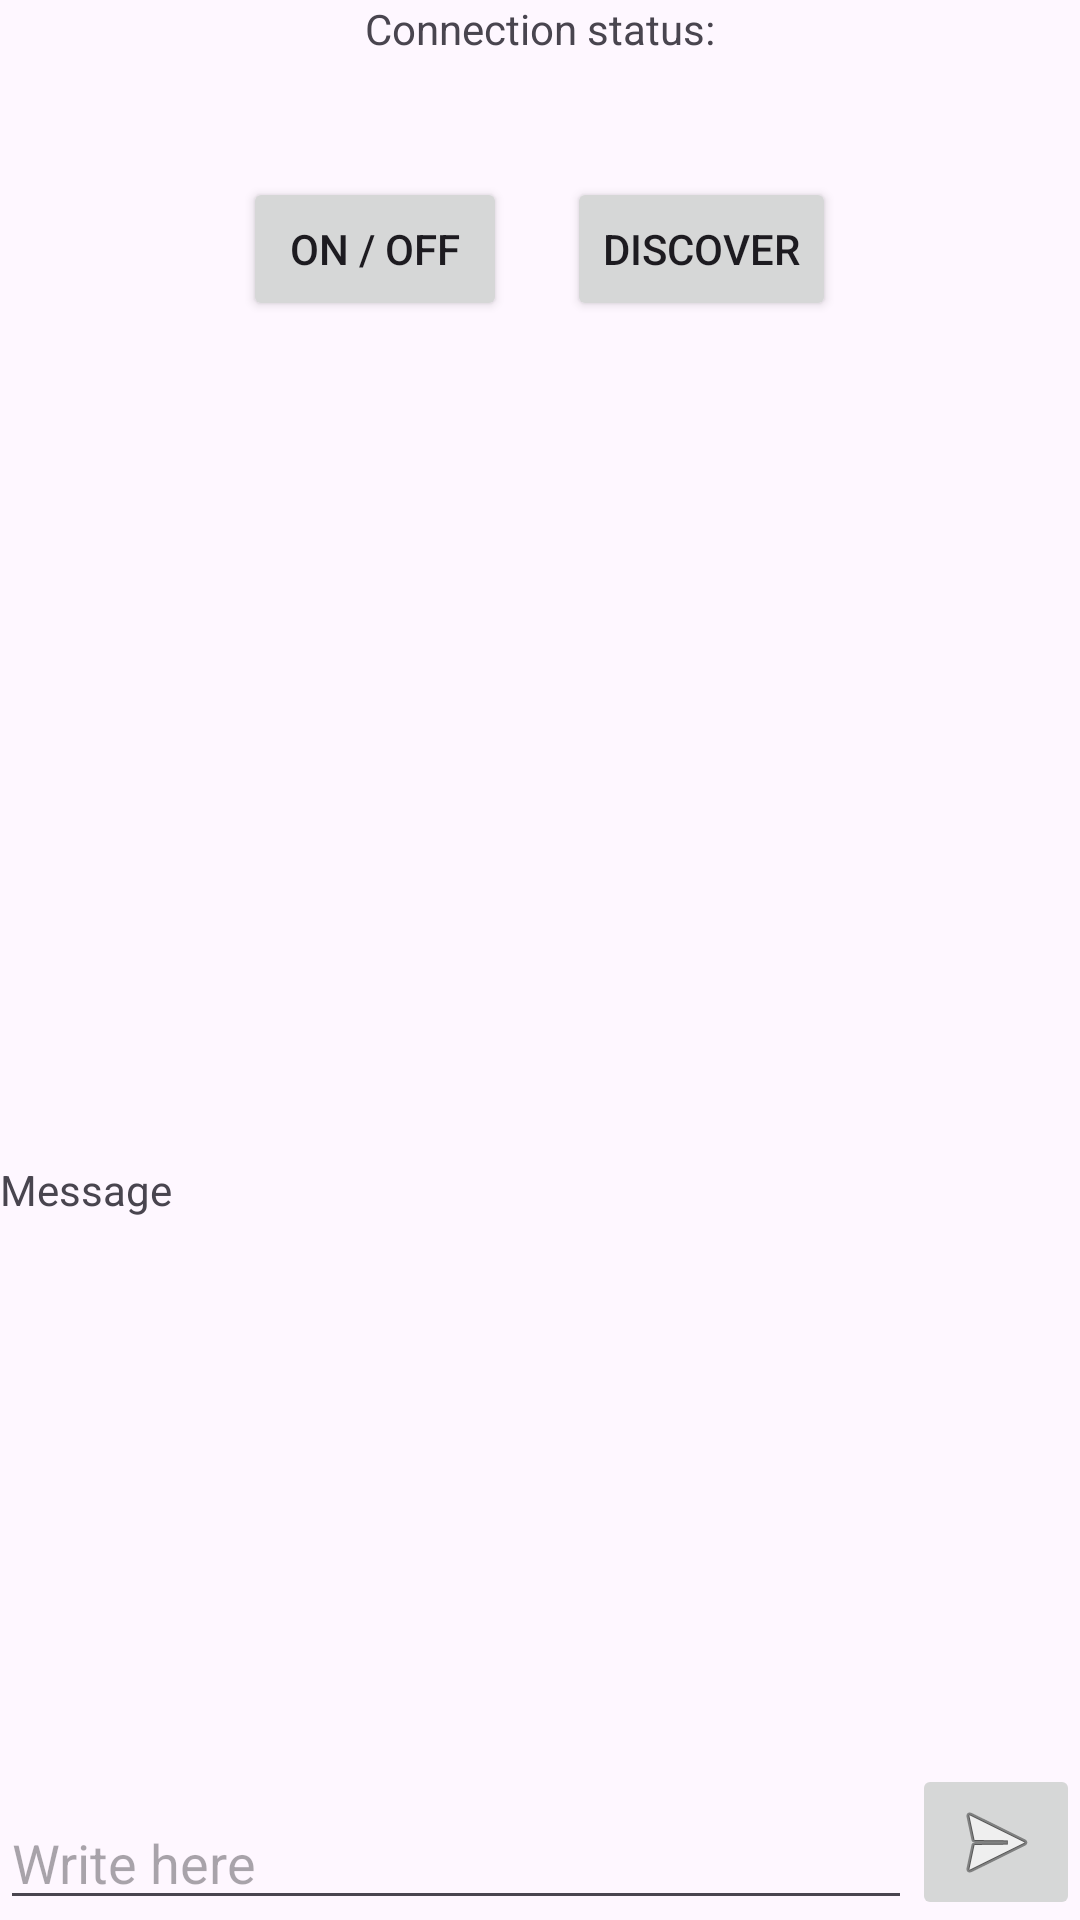

Locate icon controls on the screen. Image size 1080w x 1920h, boxes as region(x1, y1, x2, y2).
send: region(924, 1782, 1068, 1902)
